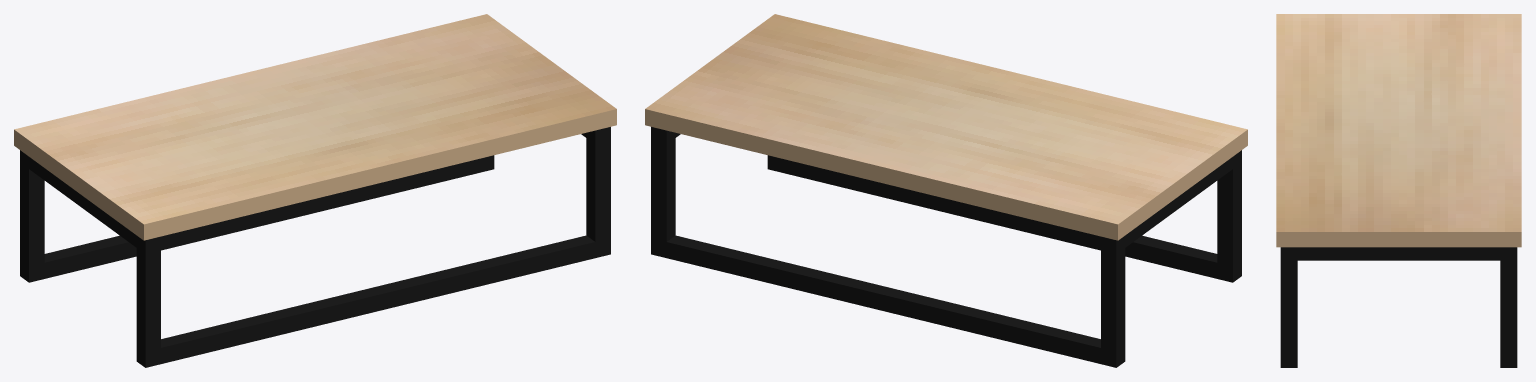
The model's file is modern_wood_coffee_table.gltf.
The picture shows the model from 3 angles, left to right: view 1: azimuth 30°, elevation 25°; view 2: azimuth 150°, elevation 25°; view 3: azimuth 270°, elevation 25°; orthographic projection. The views are drawn at different scales.
Visible parts, largest first — view 1: cube; view 2: cube; view 3: cube.
Part boxes in pixels (x1=…): cube: x1=14, y1=14, x2=616, y2=367; cube: x1=645, y1=14, x2=1247, y2=367; cube: x1=1276, y1=14, x2=1521, y2=367.
Bounding box in the file's own units: 1.91 × 0.5625 × 0.9062.
Materials: 1 (1 with a texture image).
